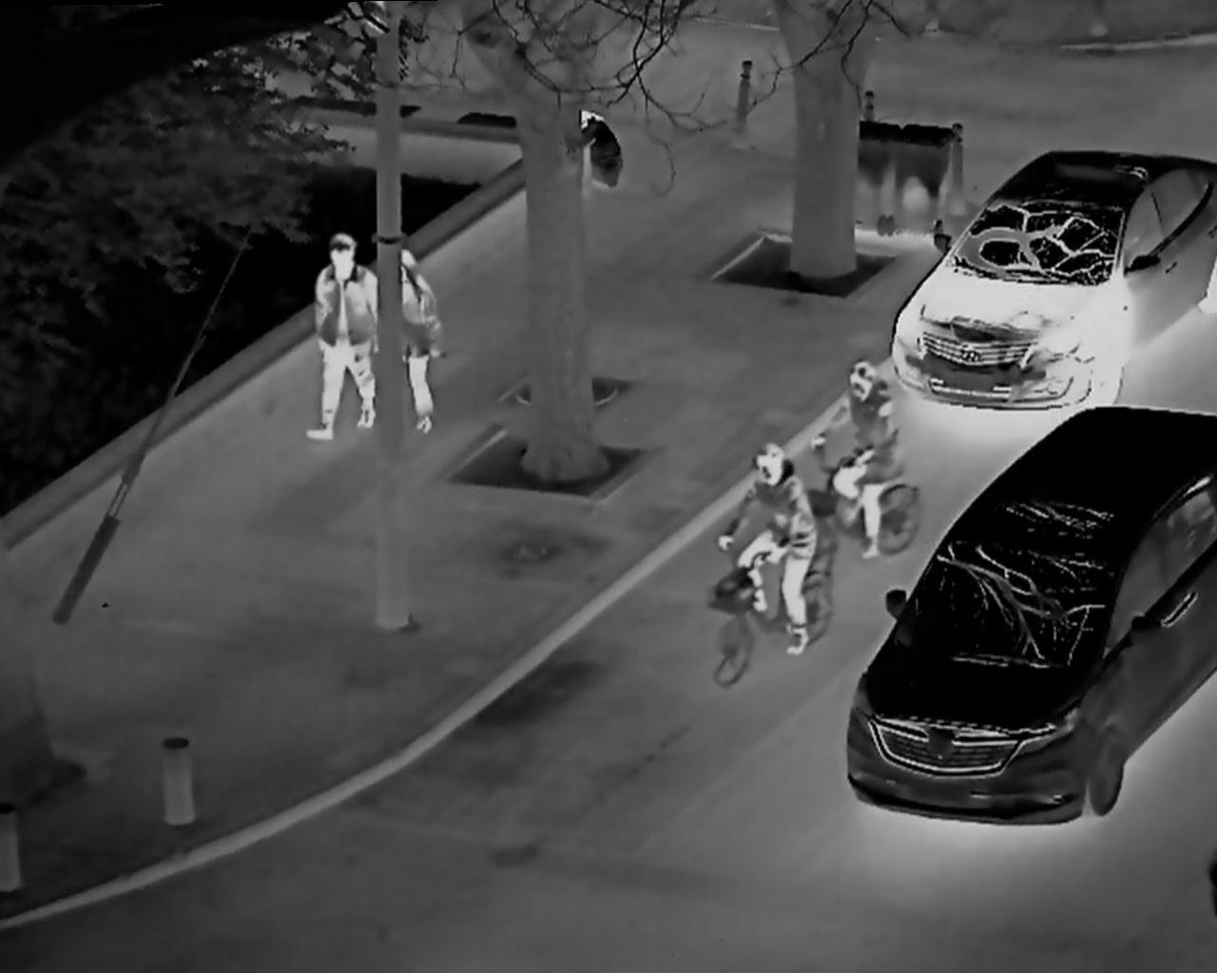person: (720, 435, 817, 677), (822, 338, 912, 578), (303, 213, 381, 432), (387, 239, 450, 439)
